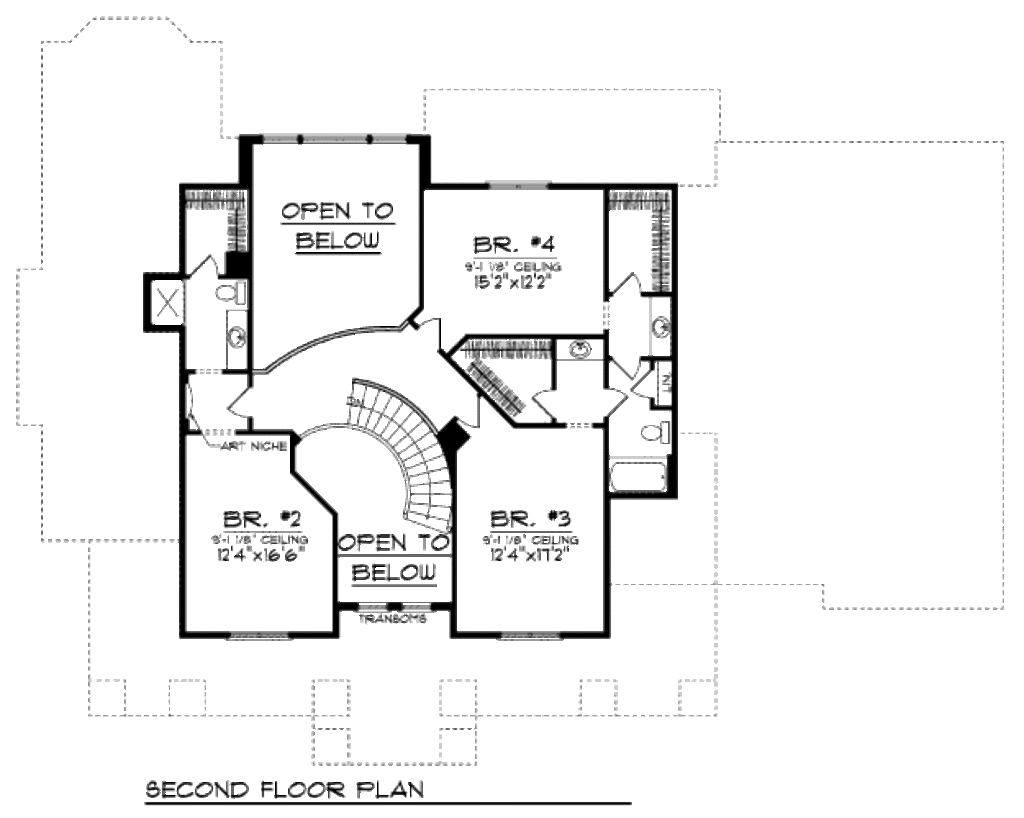door: (452, 385, 485, 443), (607, 265, 649, 302), (223, 377, 258, 421), (191, 249, 236, 283), (593, 384, 628, 427), (535, 385, 570, 420), (632, 363, 659, 404), (413, 314, 443, 342), (610, 353, 637, 380)
large_sink: (216, 281, 249, 310), (640, 416, 669, 448)
small_sink: (649, 296, 673, 354), (560, 337, 606, 361)
stairs: (306, 377, 457, 538), (229, 308, 256, 365)
tub: (611, 460, 664, 493)
window: (259, 130, 409, 153), (484, 170, 559, 191), (361, 600, 438, 619), (227, 630, 294, 647), (498, 631, 567, 642)
